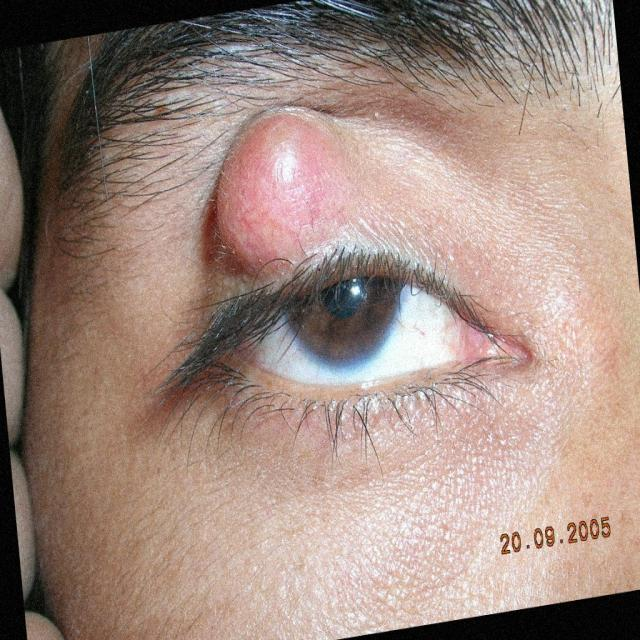Chalazion: (186, 115, 535, 408), (540, 410, 542, 415)
